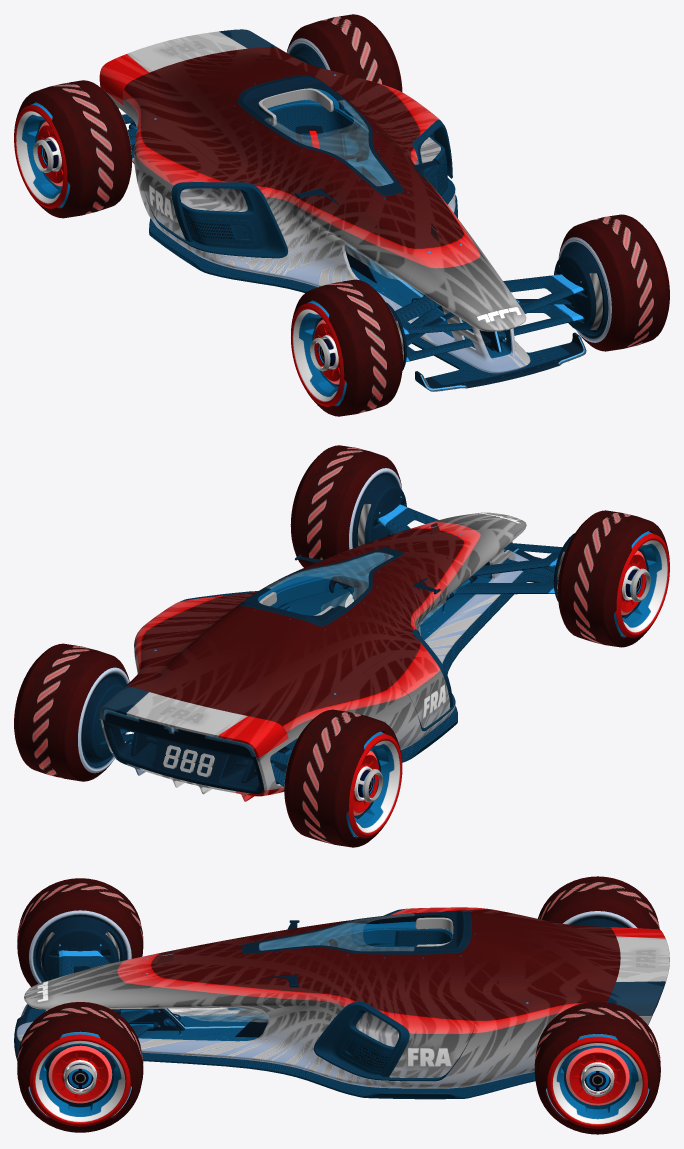
File: trackmania-france.glb
3 views of the same model, one above another, from view 1: azimuth 30°, elevation 25°; view 2: azimuth 150°, elevation 25°; view 3: azimuth 270°, elevation 25° (orthographic). The views are drawn at different scales.
Visible parts, largest first — view 1: Skin_01, Details_01, Wheel_RL, Wheel_FR, Wheel_FL, Wheel_RR, Glass_01; view 2: Skin_01, Details_01, Wheel_RR, Wheel_RL, Wheel_FL, Wheel_FR, Glass_01; view 3: Skin_01, Details_01, Wheel_RR, Wheel_FR, Wheel_FL, Wheel_RL, Glass_01.
Boxes of the visible parts, x1,y1,x2,y2 form: Skin_01: [14, 29, 669, 406]; Details_01: [31, 38, 611, 405]; Wheel_RL: [14, 80, 131, 218]; Wheel_FR: [559, 214, 669, 351]; Wheel_FL: [291, 279, 402, 416]; Wheel_RR: [286, 14, 402, 91]; Glass_01: [265, 100, 587, 392]; Skin_01: [14, 481, 669, 838]; Details_01: [78, 468, 652, 836]; Wheel_RR: [14, 643, 129, 781]; Wheel_RL: [284, 709, 402, 847]; Wheel_FL: [557, 510, 669, 647]; Wheel_FR: [290, 445, 401, 567]; Glass_01: [102, 552, 446, 756]; Skin_01: [16, 907, 669, 1128]; Details_01: [14, 908, 664, 1119]; Wheel_RR: [534, 1001, 660, 1134]; Wheel_FR: [17, 1002, 143, 1132]; Wheel_FL: [17, 878, 143, 986]; Wheel_RL: [538, 876, 659, 929]; Glass_01: [18, 913, 414, 1027].
Bounding box in the file's own units: 2.52 × 1.04 × 4.45.
Materials: 4 (4 with a texture image).
